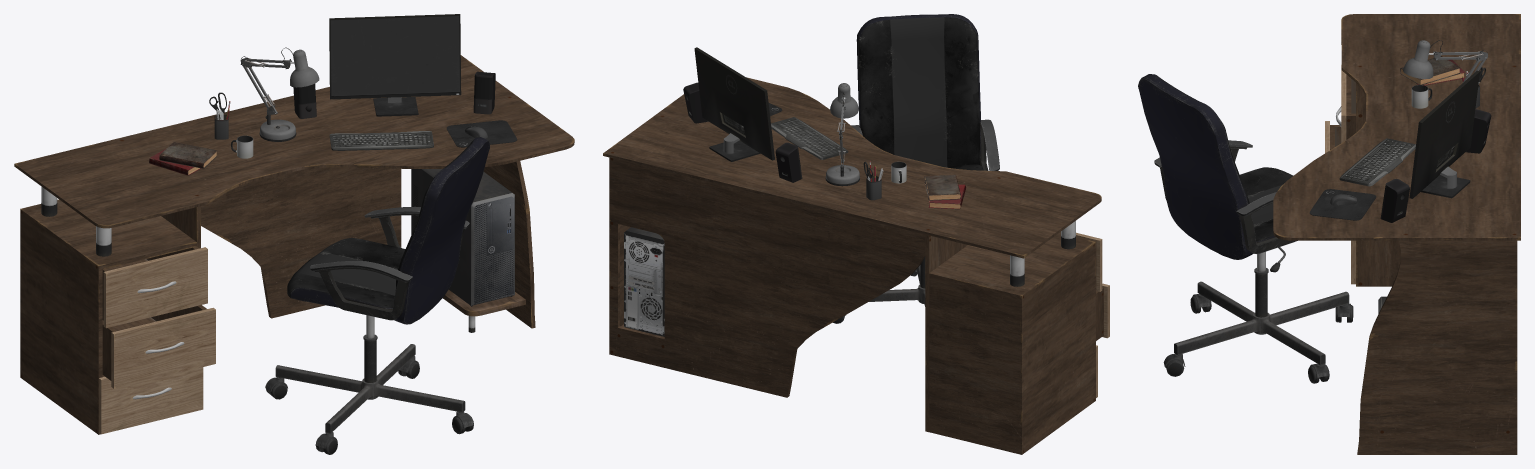
Rendered from computer_desk.glb.
3 views of the same model, side by side, from view 1: azimuth 30°, elevation 25°; view 2: azimuth 150°, elevation 25°; view 3: azimuth 270°, elevation 25° (orthographic). The views are drawn at different scales.
Parts seen in each view (by area): view 1: Desk, Chair, Monitor, Drawer02, Computer, Drawer01, Drawer03, DeskLamp, Keyboard, Mat, Book01, Loudspeaker02 (+1 smaller); view 2: Desk, Chair, Monitor, Computer, Keyboard, DeskLamp, Book01, Loudspeaker01, Drawer02, Loudspeaker02; view 3: Desk, Chair, Monitor, Keyboard, DeskLamp, Mat, Drawer01, Loudspeaker02, Book01, Loudspeaker01, Cup, Drawer02.
Part boxes in pixels (<box>): Desk: <box>14,55,574,434</box>; Chair: <box>265,137,489,454</box>; Monitor: <box>329,14,461,116</box>; Drawer02: <box>102,305,215,388</box>; Computer: <box>411,169,514,306</box>; Drawer01: <box>102,246,207,328</box>; Drawer03: <box>99,367,203,434</box>; DeskLamp: <box>240,47,319,141</box>; Keyboard: <box>329,131,433,150</box>; Mat: <box>446,120,517,147</box>; Book01: <box>159,142,217,168</box>; Loudspeaker02: <box>473,71,495,114</box>; Desk: <box>603,77,1101,454</box>; Chair: <box>833,14,999,323</box>; Monitor: <box>694,47,774,161</box>; Computer: <box>624,227,664,336</box>; Keyboard: <box>771,117,848,159</box>; DeskLamp: <box>825,83,859,186</box>; Book01: <box>924,174,960,200</box>; Loudspeaker01: <box>775,142,802,182</box>; Drawer02: <box>1096,283,1109,340</box>; Loudspeaker02: <box>683,82,708,123</box>; Desk: <box>1273,14,1520,454</box>; Chair: <box>1138,74,1353,383</box>; Monitor: <box>1409,70,1479,198</box>; Keyboard: <box>1339,138,1415,186</box>; DeskLamp: <box>1403,40,1487,82</box>; Mat: <box>1309,189,1376,220</box>; Drawer01: <box>1336,65,1355,142</box>; Loudspeaker02: <box>1380,178,1409,222</box>; Book01: <box>1400,56,1460,84</box>; Loudspeaker01: <box>1466,109,1491,153</box>; Cup: <box>1411,85,1432,108</box>; Drawer02: <box>1325,121,1341,153</box>.
Bounding box in the file's own units: 2.13 × 1.39 × 1.54.
Materials: 14 (14 with a texture image).
